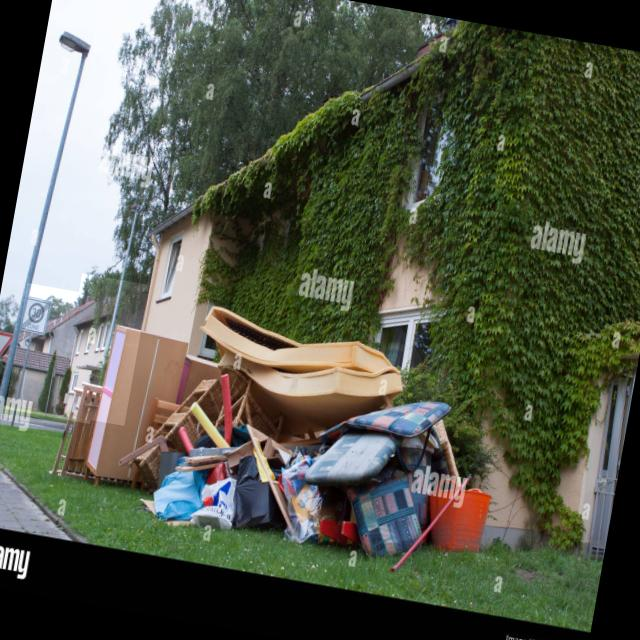House: (107, 0, 640, 572), (5, 282, 112, 423), (56, 273, 148, 425)
